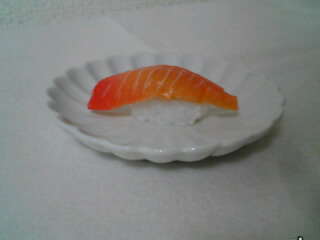002_classes: (82, 60, 246, 131)
